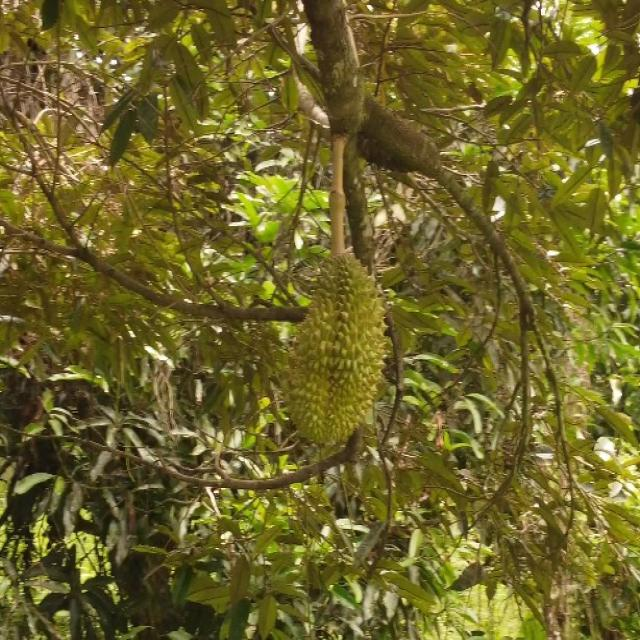immature: (286, 254, 389, 450)
